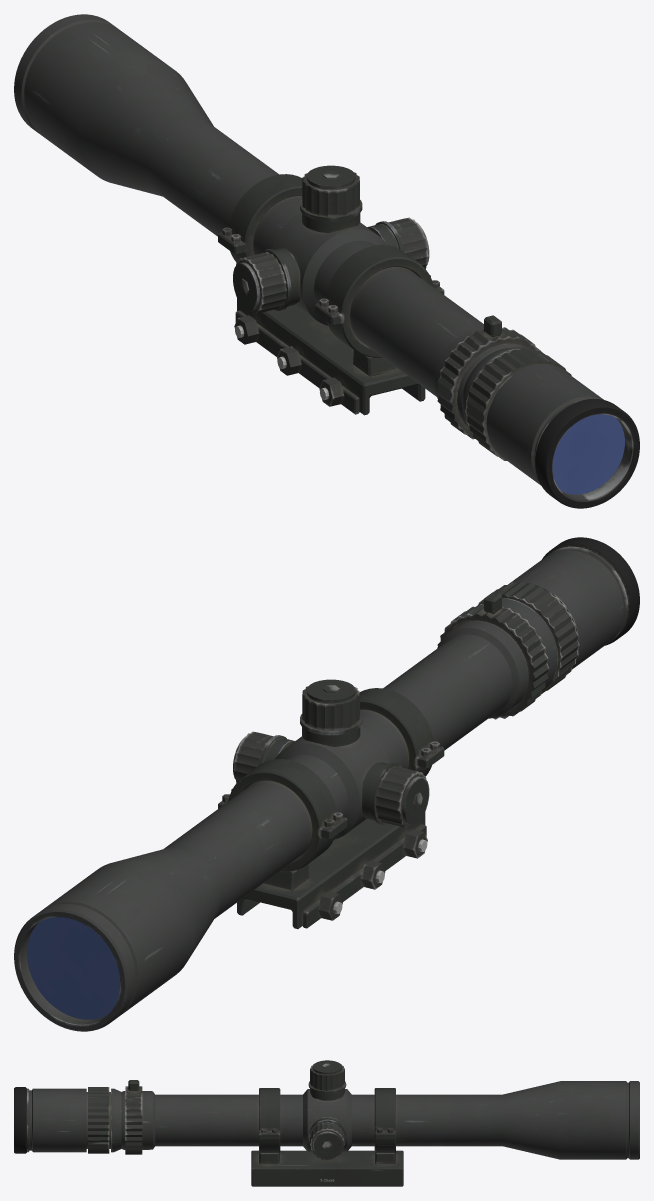
File: luneta_5_25.glb
3 views of the same model, one above another, from view 1: azimuth 30°, elevation 25°; view 2: azimuth 150°, elevation 25°; view 3: azimuth 270°, elevation 25° (orthographic). The views are drawn at different scales.
Parts seen in each view (by area): view 1: luneta_5_25_luneta, luneta_5_25_lente; view 2: luneta_5_25_luneta, luneta_5_25_lente; view 3: luneta_5_25_luneta.
Part boxes in pixels (bbox=[...]): luneta_5_25_luneta: bbox=[14, 14, 639, 508]; luneta_5_25_lente: bbox=[552, 414, 624, 494]; luneta_5_25_luneta: bbox=[14, 537, 639, 1031]; luneta_5_25_lente: bbox=[27, 917, 120, 1019]; luneta_5_25_luneta: bbox=[14, 1060, 639, 1186].
Size of the model in its own units: 0.0792 by 0.0815 by 0.4106.
1 material, 1 textured.
